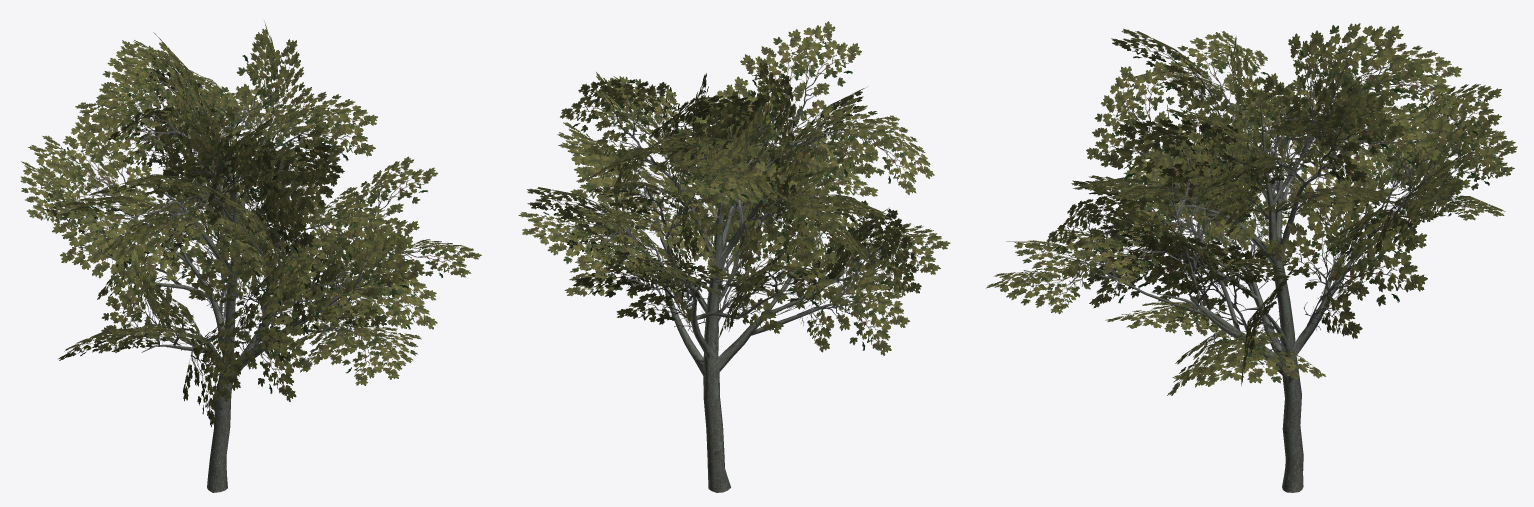
The model's file is Maple_13m.fbx.
The picture shows the model from 3 angles, left to right: view 1: azimuth 30°, elevation 25°; view 2: azimuth 150°, elevation 25°; view 3: azimuth 270°, elevation 25°; orthographic projection. The views are drawn at different scales.
Visible parts, largest first — view 1: Maple_13m__2_; view 2: Maple_13m__2_; view 3: Maple_13m__2_.
Boxes of the visible parts, <box> form: Maple_13m__2_: <box>20,21,481,492</box>; Maple_13m__2_: <box>518,21,950,492</box>; Maple_13m__2_: <box>986,23,1517,492</box>.
Size of the model in its own units: 1310 by 1452 by 1528.
Materials: 1 (1 with a texture image).
